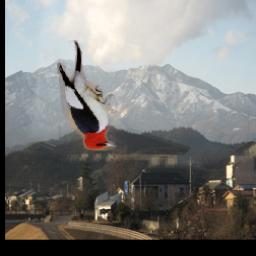Woodpecker: (58, 41, 118, 151)
